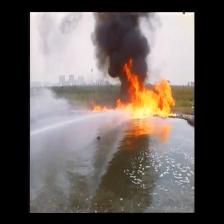fire: (128, 88, 172, 111)
smoke: (98, 14, 145, 63)
